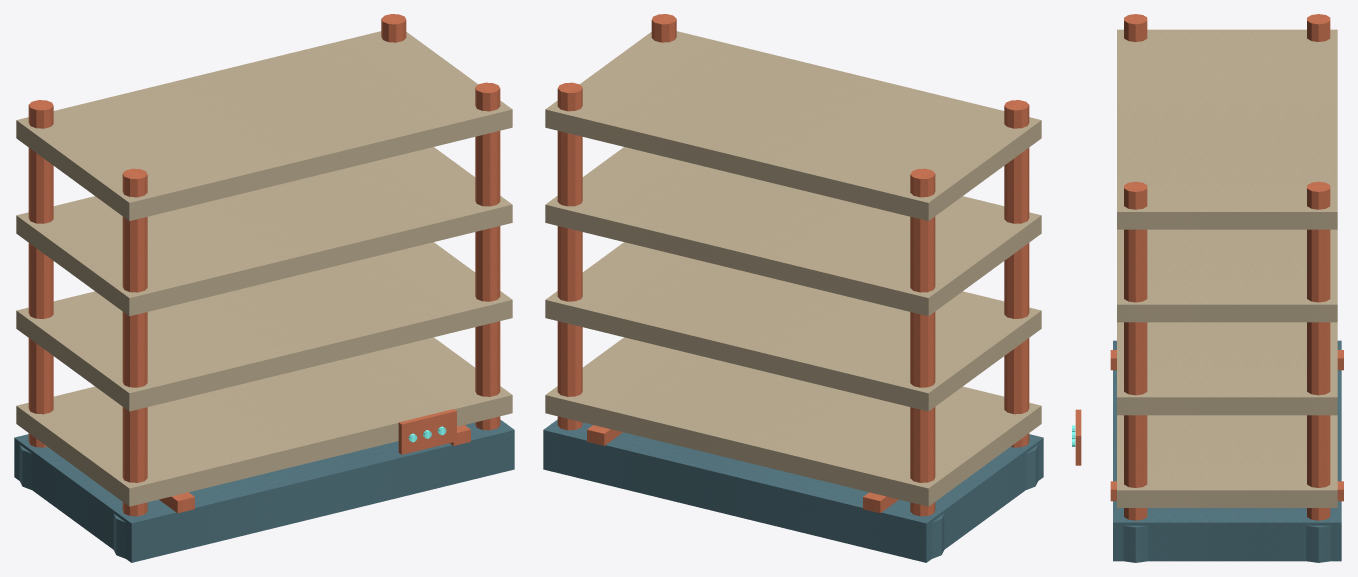
File: atlas100-s044-a06.glb
3 renders of one model, left to right at view 1: azimuth 30°, elevation 25°; view 2: azimuth 150°, elevation 25°; view 3: azimuth 270°, elevation 25°, orthographic. The views are drawn at different scales.
Parts seen in each view (by area): view 1: atlas100-s044-a06:part-014, atlas100-s044-a06:part-012, atlas100-s044-a06:part-013, atlas100-s044-a06:part-011, atlas100-s044-a06:part-000, atlas100-s044-a06:part-005, atlas100-s044-a06:part-009, atlas100-s044-a06:part-003, atlas100-s044-a06:part-015, atlas100-s044-a06:part-007; view 2: atlas100-s044-a06:part-014, atlas100-s044-a06:part-012, atlas100-s044-a06:part-011, atlas100-s044-a06:part-013, atlas100-s044-a06:part-000, atlas100-s044-a06:part-003, atlas100-s044-a06:part-007, atlas100-s044-a06:part-005, atlas100-s044-a06:part-009; view 3: atlas100-s044-a06:part-014, atlas100-s044-a06:part-012, atlas100-s044-a06:part-013, atlas100-s044-a06:part-011, atlas100-s044-a06:part-000, atlas100-s044-a06:part-007, atlas100-s044-a06:part-009, atlas100-s044-a06:part-008, atlas100-s044-a06:part-010, atlas100-s044-a06:part-003, atlas100-s044-a06:part-005, atlas100-s044-a06:part-015.
Boxes of the visible parts, x1=… form: atlas100-s044-a06:part-014: x1=16, y1=31, x2=512, y2=220; atlas100-s044-a06:part-012: x1=16, y1=242, x2=512, y2=411; atlas100-s044-a06:part-013: x1=16, y1=147, x2=512, y2=316; atlas100-s044-a06:part-011: x1=16, y1=337, x2=512, y2=506; atlas100-s044-a06:part-000: x1=14, y1=419, x2=514, y2=562; atlas100-s044-a06:part-005: x1=122, y1=168, x2=147, y2=516; atlas100-s044-a06:part-009: x1=475, y1=82, x2=500, y2=430; atlas100-s044-a06:part-003: x1=28, y1=100, x2=53, y2=447; atlas100-s044-a06:part-015: x1=398, y1=409, x2=456, y2=454; atlas100-s044-a06:part-007: x1=381, y1=14, x2=406, y2=42; atlas100-s044-a06:part-014: x1=545, y1=31, x2=1041, y2=220; atlas100-s044-a06:part-012: x1=545, y1=242, x2=1041, y2=411; atlas100-s044-a06:part-011: x1=545, y1=337, x2=1041, y2=506; atlas100-s044-a06:part-013: x1=545, y1=147, x2=1041, y2=316; atlas100-s044-a06:part-000: x1=543, y1=419, x2=1043, y2=562; atlas100-s044-a06:part-003: x1=910, y1=168, x2=935, y2=516; atlas100-s044-a06:part-007: x1=557, y1=82, x2=582, y2=430; atlas100-s044-a06:part-005: x1=1004, y1=100, x2=1029, y2=447; atlas100-s044-a06:part-009: x1=651, y1=14, x2=676, y2=42; atlas100-s044-a06:part-014: x1=1117, y1=29, x2=1337, y2=229; atlas100-s044-a06:part-012: x1=1117, y1=322, x2=1337, y2=415; atlas100-s044-a06:part-013: x1=1117, y1=229, x2=1337, y2=322; atlas100-s044-a06:part-011: x1=1117, y1=415, x2=1337, y2=507; atlas100-s044-a06:part-000: x1=1113, y1=340, x2=1341, y2=561; atlas100-s044-a06:part-007: x1=1307, y1=181, x2=1330, y2=520; atlas100-s044-a06:part-009: x1=1124, y1=181, x2=1147, y2=520; atlas100-s044-a06:part-008: x1=1306, y1=525, x2=1330, y2=562; atlas100-s044-a06:part-010: x1=1123, y1=525, x2=1147, y2=562; atlas100-s044-a06:part-003: x1=1307, y1=14, x2=1330, y2=41; atlas100-s044-a06:part-005: x1=1124, y1=14, x2=1147, y2=41; atlas100-s044-a06:part-015: x1=1075, y1=409, x2=1081, y2=465.
Bounding box in the file's own units: 2.69 × 2.48 × 1.66.
Materials: 4 (4 with a texture image).
